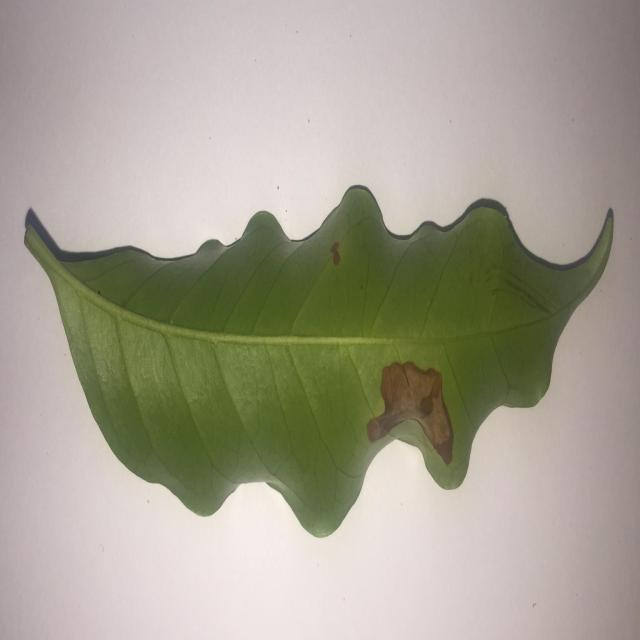Plaga-Minador: (22, 185, 616, 542)
